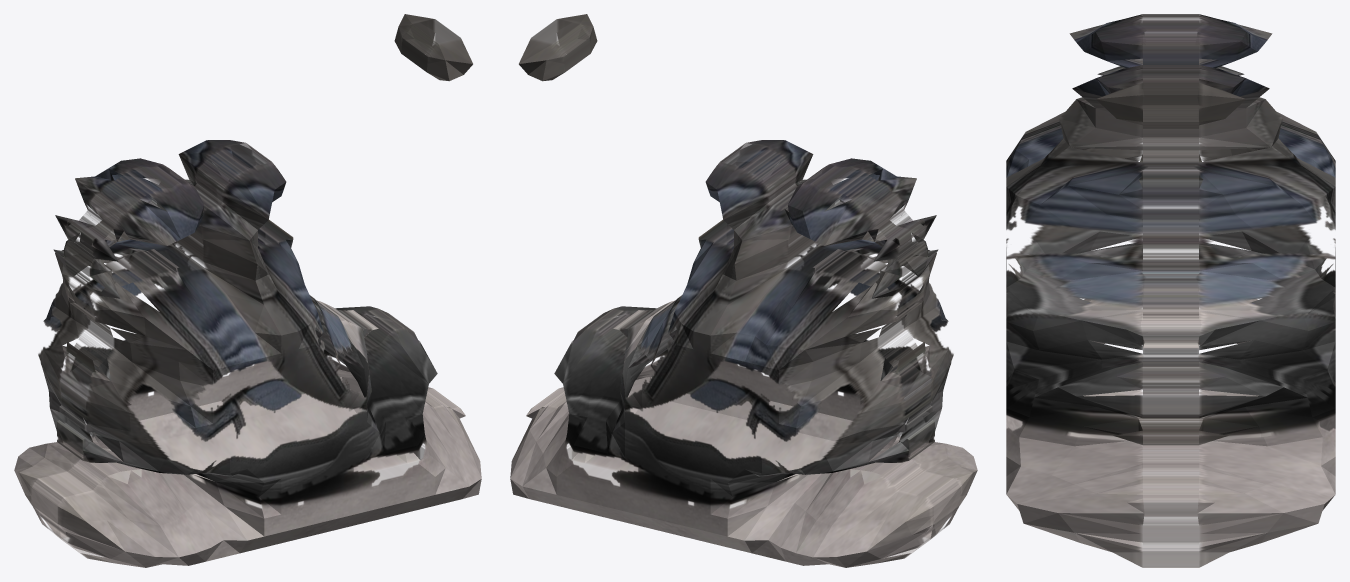
Rendered from arai-vantage-adventure-boot-130.glb.
The picture shows the model from 3 angles, left to right: view 1: azimuth 30°, elevation 25°; view 2: azimuth 150°, elevation 25°; view 3: azimuth 270°, elevation 25°; orthographic projection. The views are drawn at different scales.
Visible parts, largest first — view 1: world; view 2: world; view 3: world.
Part boxes in pixels (x1,y1,x2,y2): world: (14, 14, 481, 567); world: (510, 14, 977, 567); world: (1006, 14, 1335, 567).
Size of the model in its own units: 0.9646 by 1 by 0.62.
1 material, 1 textured.
